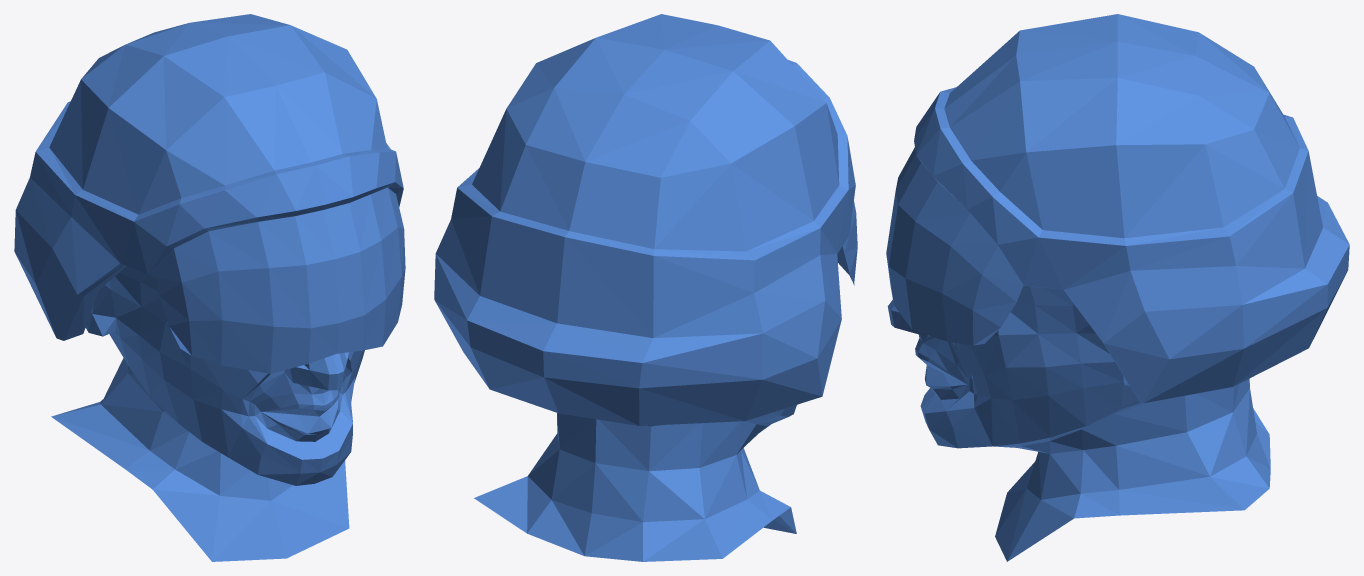
Rendered from helmet.DAE.
3 renders of one model, left to right at view 1: azimuth 30°, elevation 25°; view 2: azimuth 150°, elevation 25°; view 3: azimuth 270°, elevation 25°, orthographic. The views are drawn at different scales.
Visible parts, largest first — view 1: Low-Poly_Head; view 2: Low-Poly_Head; view 3: Low-Poly_Head.
Boxes of the visible parts, x1=… form: Low-Poly_Head: x1=14, y1=14, x2=405, y2=561; Low-Poly_Head: x1=434, y1=14, x2=857, y2=561; Low-Poly_Head: x1=886, y1=14, x2=1349, y2=561.
Bounding box in the file's own units: 55.91 × 65.35 × 77.01.
